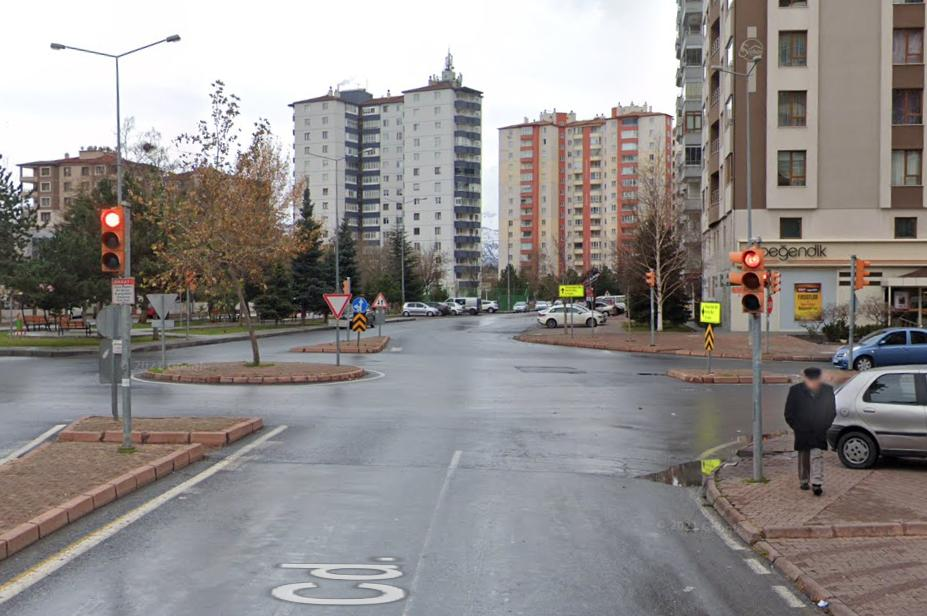redlight: (736, 249, 769, 317), (101, 209, 126, 275)
